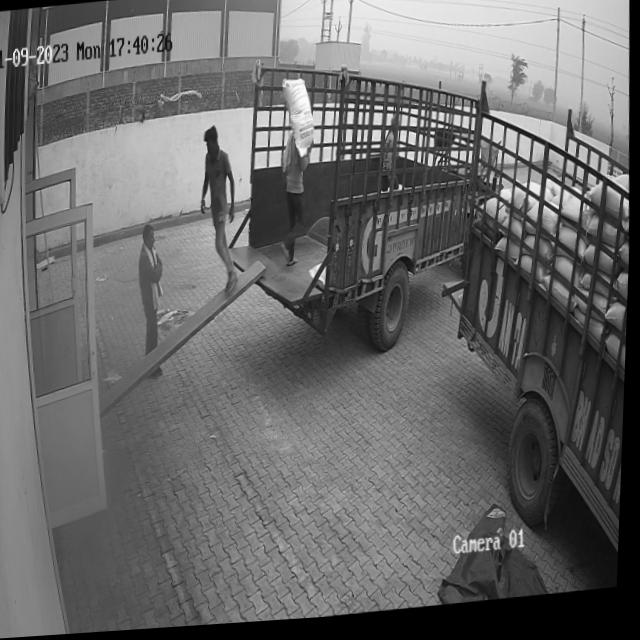sack: (280, 77, 318, 163)
